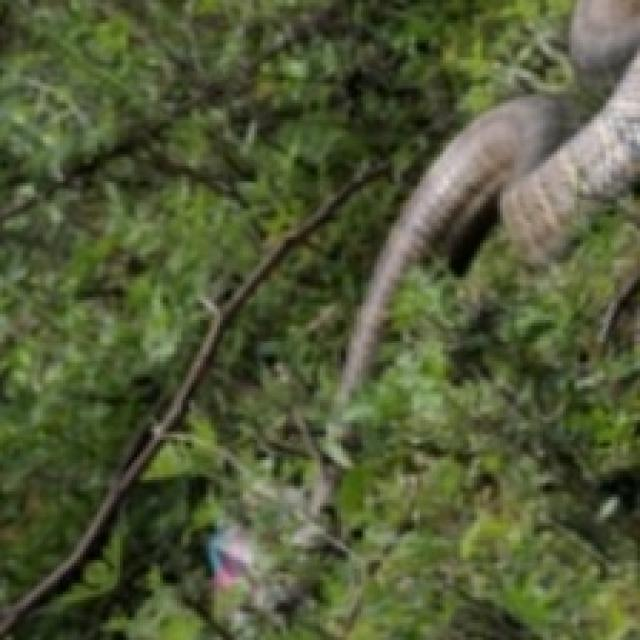king cobra: (211, 0, 637, 637)
